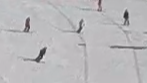skier: (25, 43, 55, 66), (18, 13, 37, 37), (71, 15, 89, 38), (119, 5, 134, 29)
